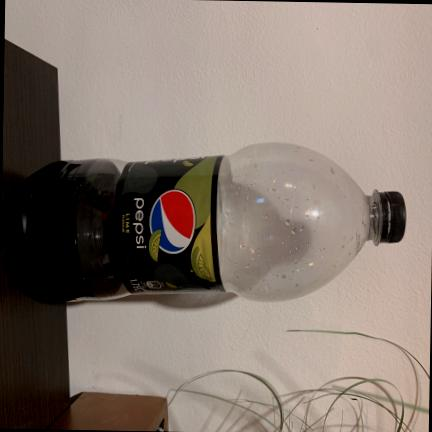container: (0, 142, 404, 301)
fluid: (0, 160, 93, 301), (48, 392, 164, 430)
fluid-surface: (72, 160, 122, 303)
